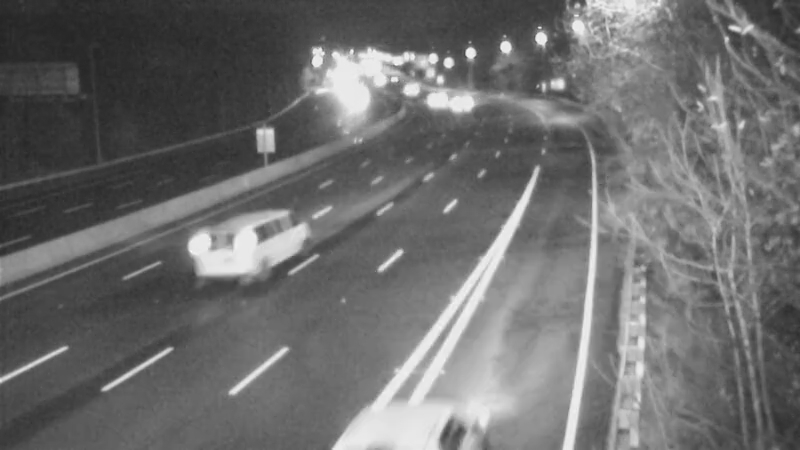vehicle: (191, 216, 271, 296), (384, 63, 434, 113), (412, 75, 462, 125), (433, 77, 483, 127)
